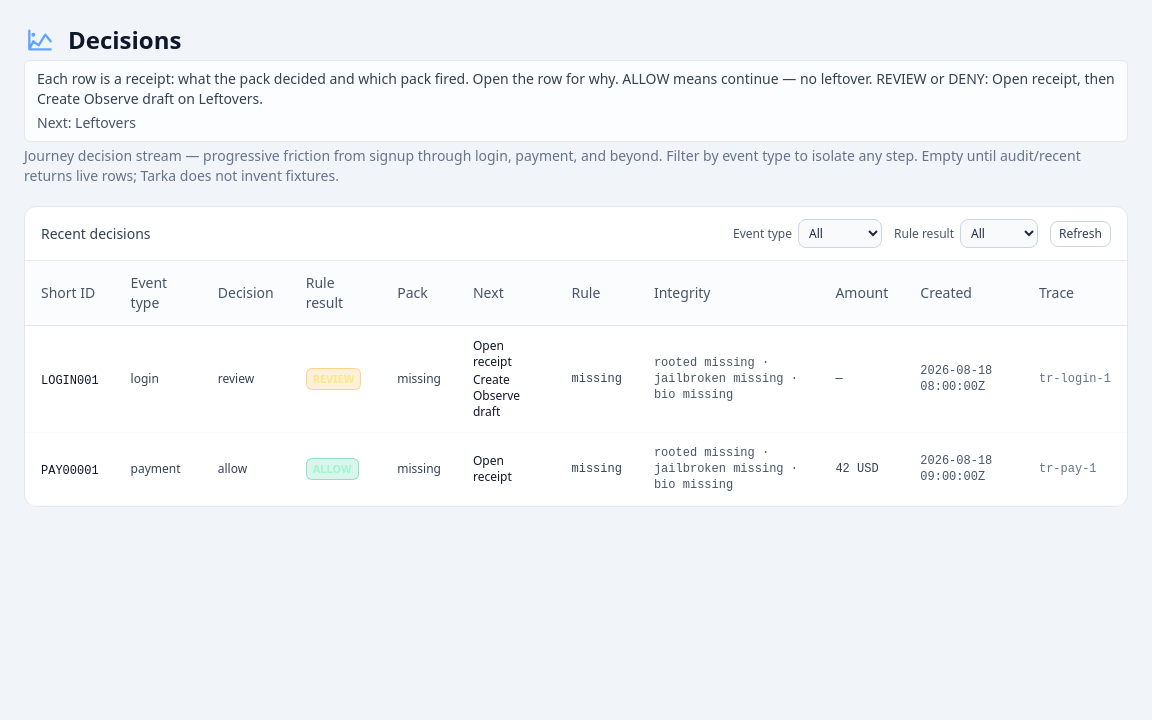
Decisions stream › shows filter-empty message when filters exclude all rows
The image size is (1152, 720).
Select "login" in the dropdown with test id "filter-event-type" at (840, 234), box [798,219,882,248]
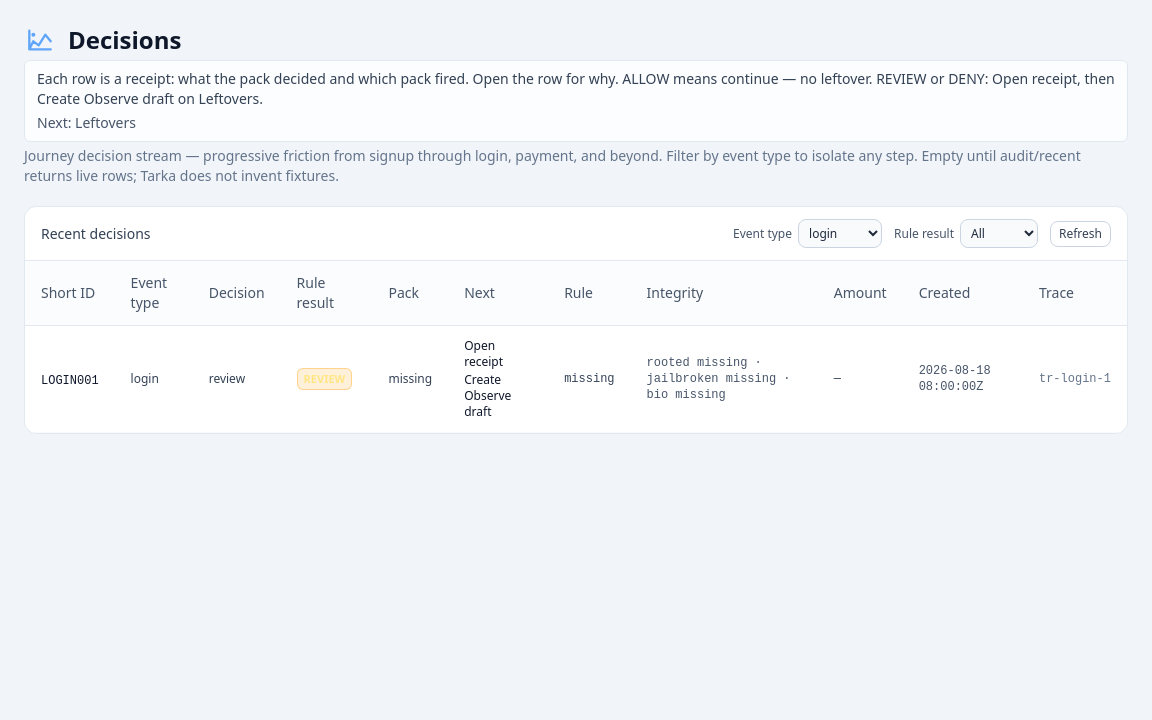
Select "ALLOW" in the dropdown with test id "filter-rule-result" at (999, 234), box [960,219,1038,248]
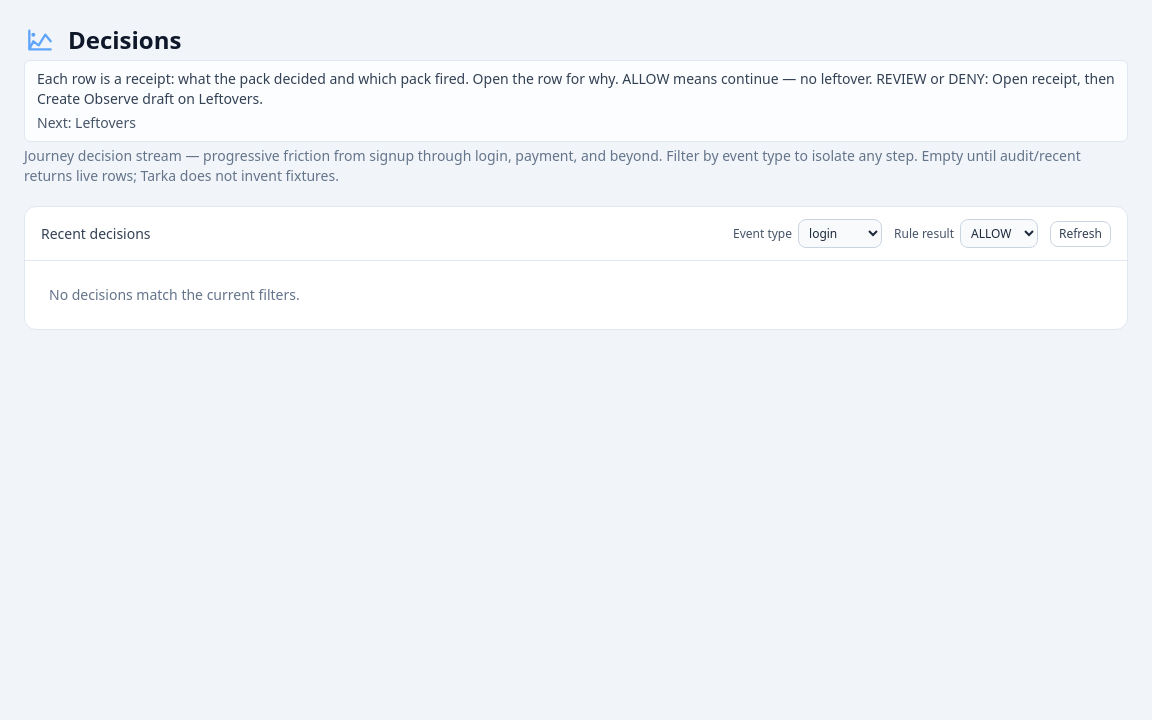
Expected: the text with test id "decisions-empty" shows "No decisions match", [49,285,300,304]
